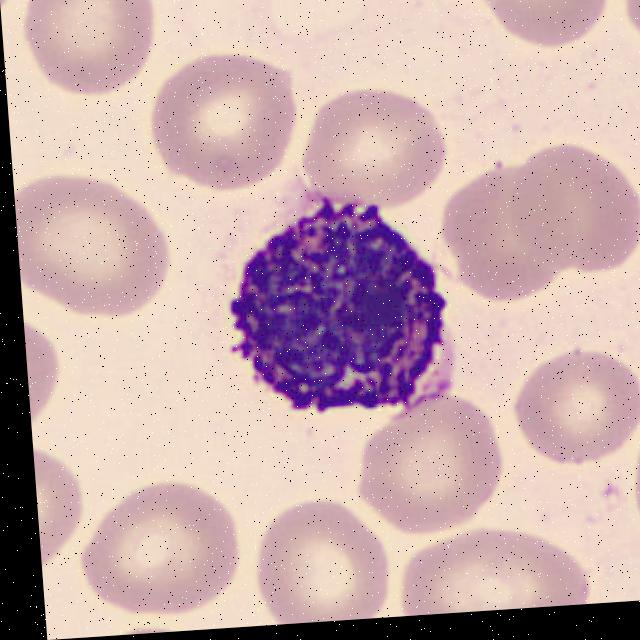basophil: (218, 197, 467, 416)
rbc: (142, 42, 314, 217), (73, 476, 246, 619), (347, 391, 513, 538), (443, 142, 577, 322), (14, 173, 171, 322), (299, 86, 456, 223), (507, 138, 640, 297), (396, 518, 600, 616), (249, 496, 393, 626), (511, 341, 640, 476), (24, 0, 167, 114), (463, 0, 617, 78), (33, 446, 90, 575), (23, 305, 75, 439), (589, 0, 640, 85), (424, 0, 556, 19), (627, 409, 640, 580)
